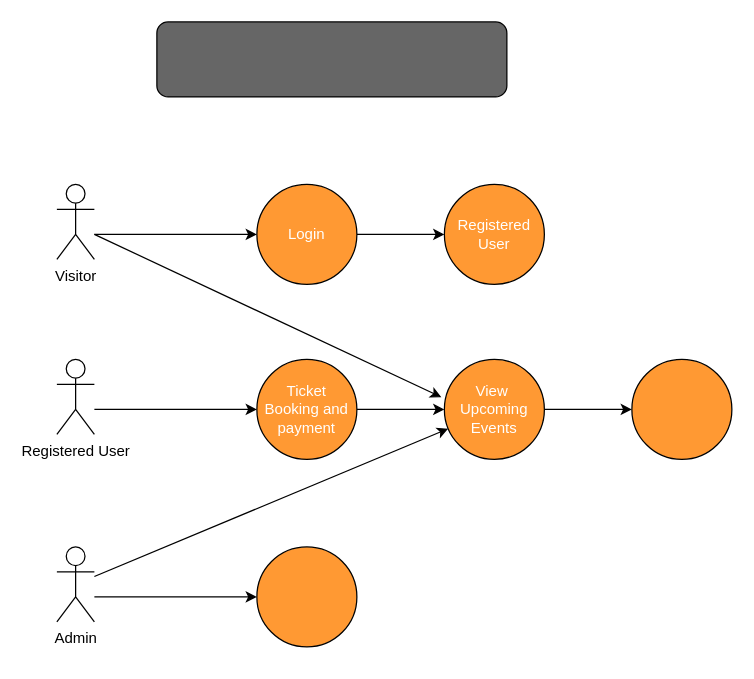
Some shapes in this 754 by 679 pixel diagram are drawn without their labels. Here are the shapes that lost their labels. From the top down, the centre of each, then its label:
point (331, 59): Event Management Portal
point (681, 408): View my tickets
point (306, 596): Manage Ticket
